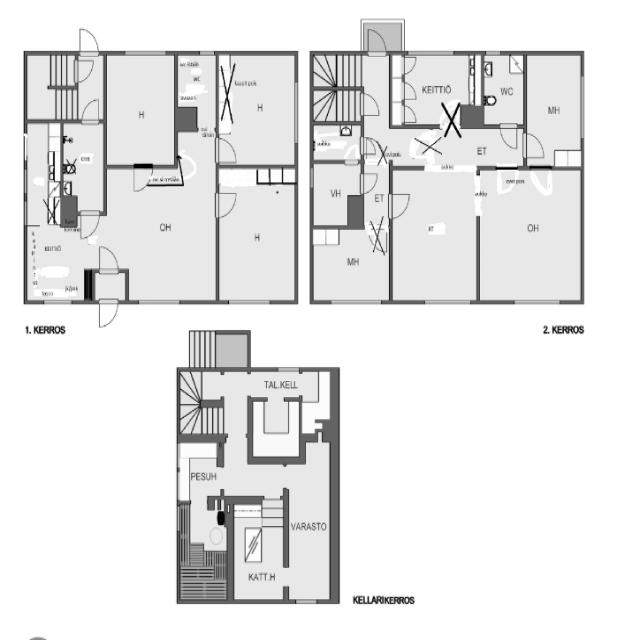door: (497, 124, 541, 154), (408, 128, 444, 157), (364, 25, 389, 58), (77, 208, 101, 242), (76, 26, 101, 58), (96, 241, 120, 274), (215, 187, 239, 219), (96, 298, 120, 330), (494, 168, 519, 198), (522, 130, 547, 159), (215, 134, 239, 164), (441, 103, 463, 135), (388, 190, 412, 219), (130, 166, 154, 195), (358, 90, 382, 118), (498, 122, 520, 152), (361, 133, 384, 161), (80, 96, 102, 124), (178, 153, 199, 180), (74, 57, 95, 83), (359, 168, 379, 194), (401, 101, 418, 126), (401, 52, 418, 76), (401, 79, 417, 102), (344, 142, 359, 166)
window: (511, 295, 565, 309), (291, 80, 302, 146), (420, 295, 474, 308), (329, 296, 384, 308), (137, 295, 185, 308), (224, 296, 276, 308), (577, 72, 586, 141), (123, 46, 169, 59), (411, 46, 455, 58), (40, 296, 74, 308), (173, 504, 184, 536), (292, 595, 321, 607), (21, 130, 30, 165), (22, 164, 31, 197), (306, 163, 316, 192), (21, 196, 30, 228), (276, 364, 301, 374), (197, 47, 216, 57), (484, 47, 502, 57)
zone: (105, 166, 218, 304), (479, 168, 583, 305), (391, 164, 478, 302), (218, 164, 297, 302), (217, 53, 297, 165), (106, 50, 176, 166), (286, 442, 332, 600), (525, 51, 582, 169), (396, 51, 481, 126), (310, 226, 390, 303), (180, 441, 227, 565), (233, 498, 284, 600), (25, 227, 87, 302), (180, 498, 229, 590), (26, 124, 64, 229), (62, 119, 104, 213), (312, 159, 363, 226), (249, 400, 303, 460), (482, 50, 524, 124), (178, 52, 218, 112), (311, 122, 362, 164)
